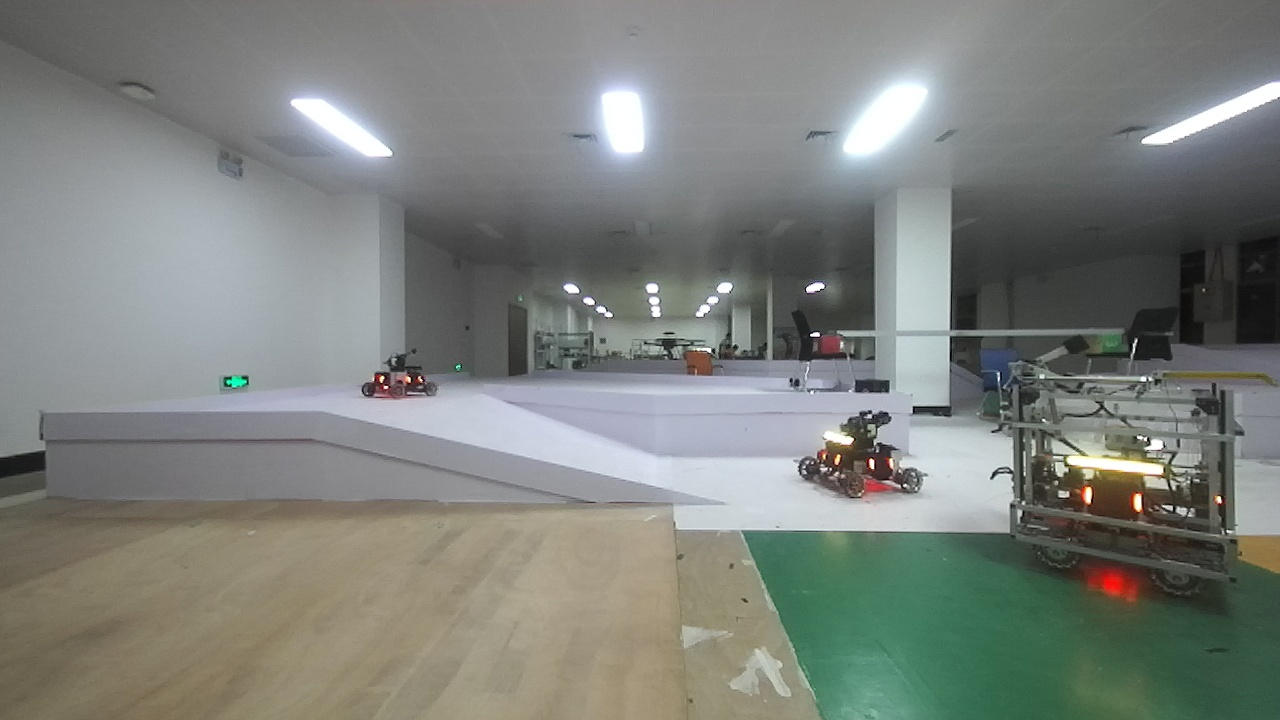car: (991, 353, 1252, 615), (782, 406, 951, 529), (355, 345, 458, 412)
